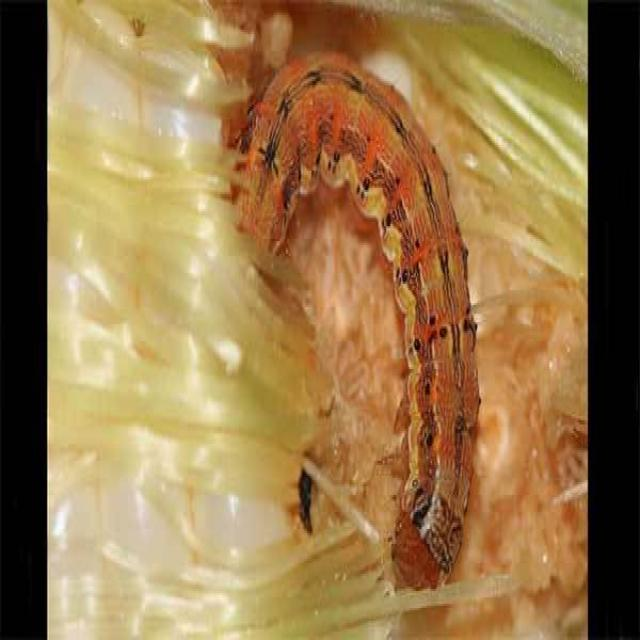Corn-earworm: (234, 47, 473, 602)
